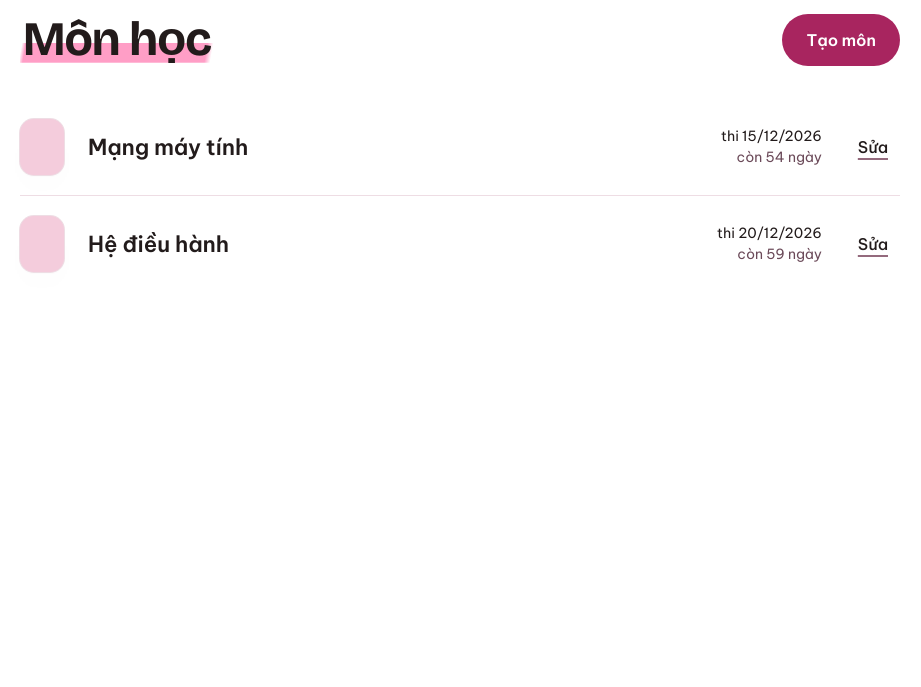
Scenario: SubjectList delete (T2.3b, us-01 AC8) › us-01 AC8: deleting sends one DELETE; the row becomes "Đã xóa môn." with no name, focused
This screenshot has width=921, height=687.
Click the button "Sửa" next to "15/12/2026" at (873, 147), box x1=846 y1=125 x2=900 y2=169
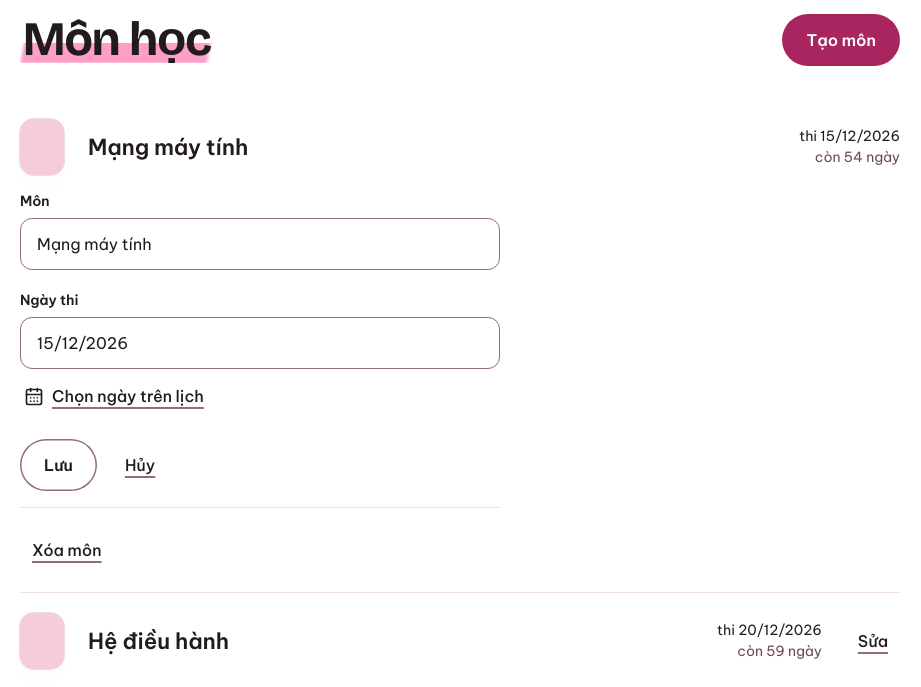
Click the button "Xóa môn" at (67, 550), box x1=20 y1=528 x2=114 y2=572
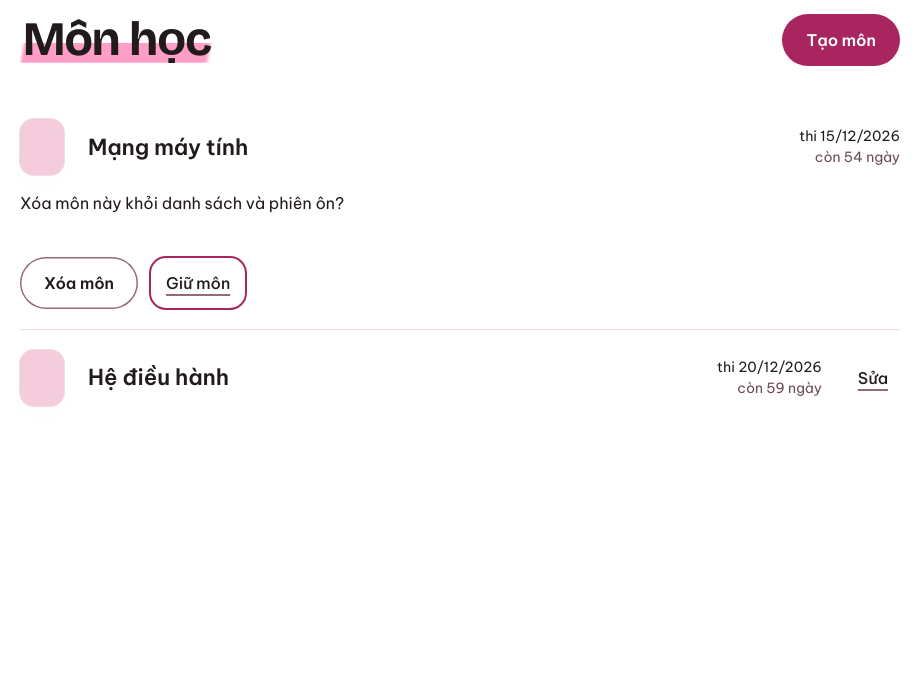
Click the button "Xóa môn" at (79, 283), box x1=20 y1=257 x2=138 y2=309
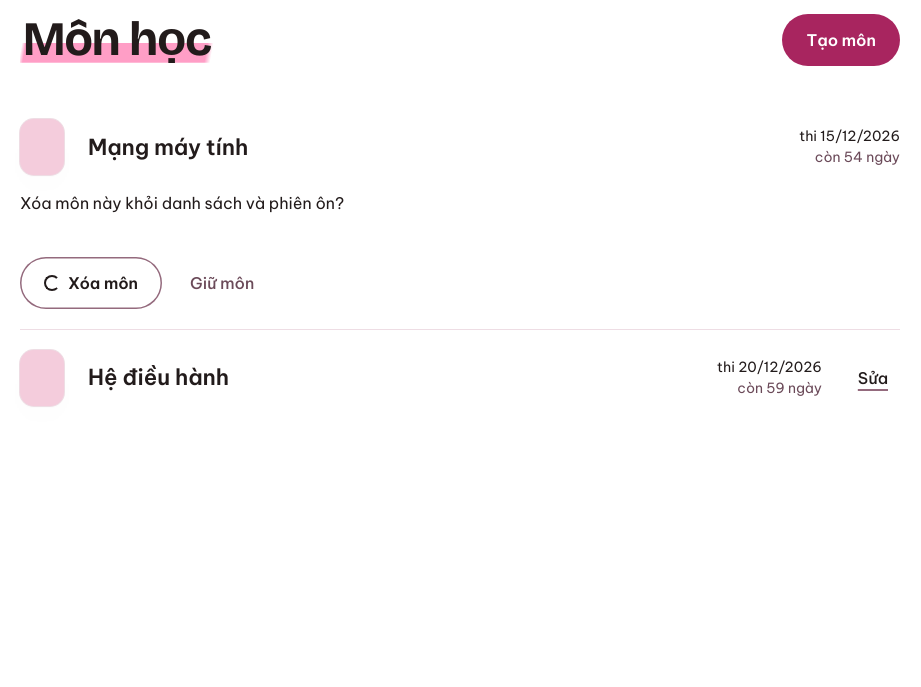
Click the button "Xóa môn" at (91, 283), box x1=20 y1=257 x2=162 y2=309
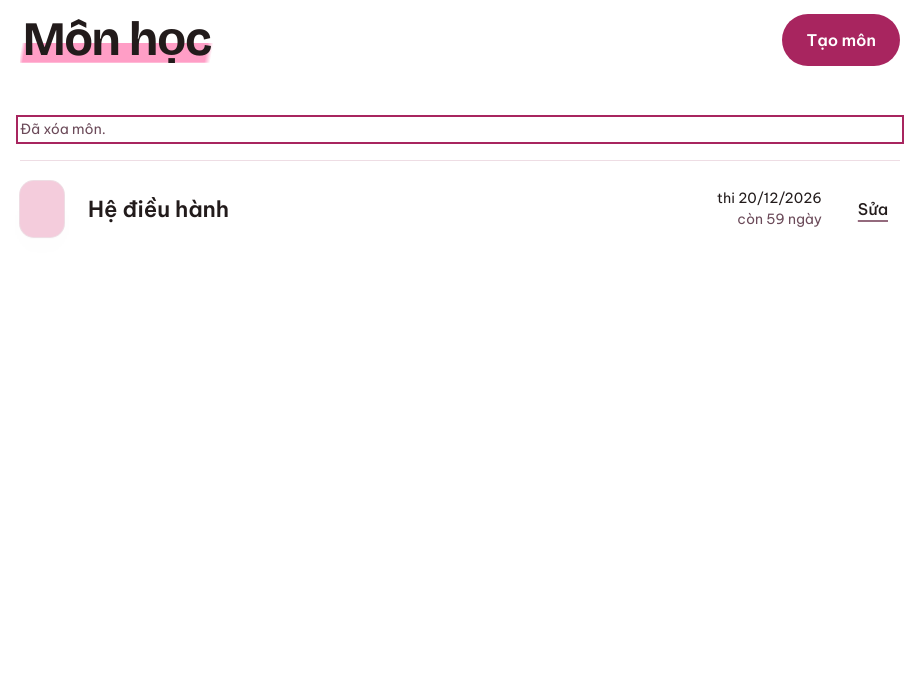
Expected: the link "Mạng máy tính" is gone
Expected: no the button "Xóa môn" are shown
